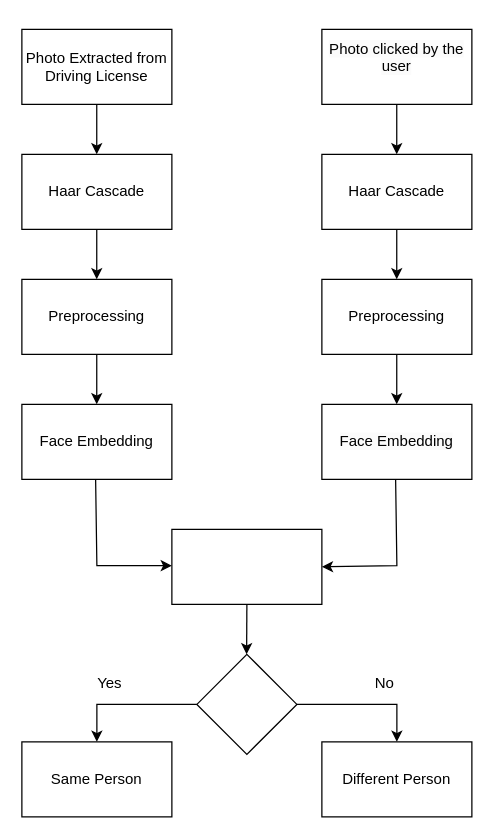
This 494x839 diagram has some shape labels left out. The shapes that lost their labels are listed below. From the top down, each one's box as (x1, y1, x2, y2) in pixels, then its label:
(171, 528, 322, 604): FaceNet implementation (Euclidean Distance)
(196, 653, 297, 754): Satisfies Threshold
